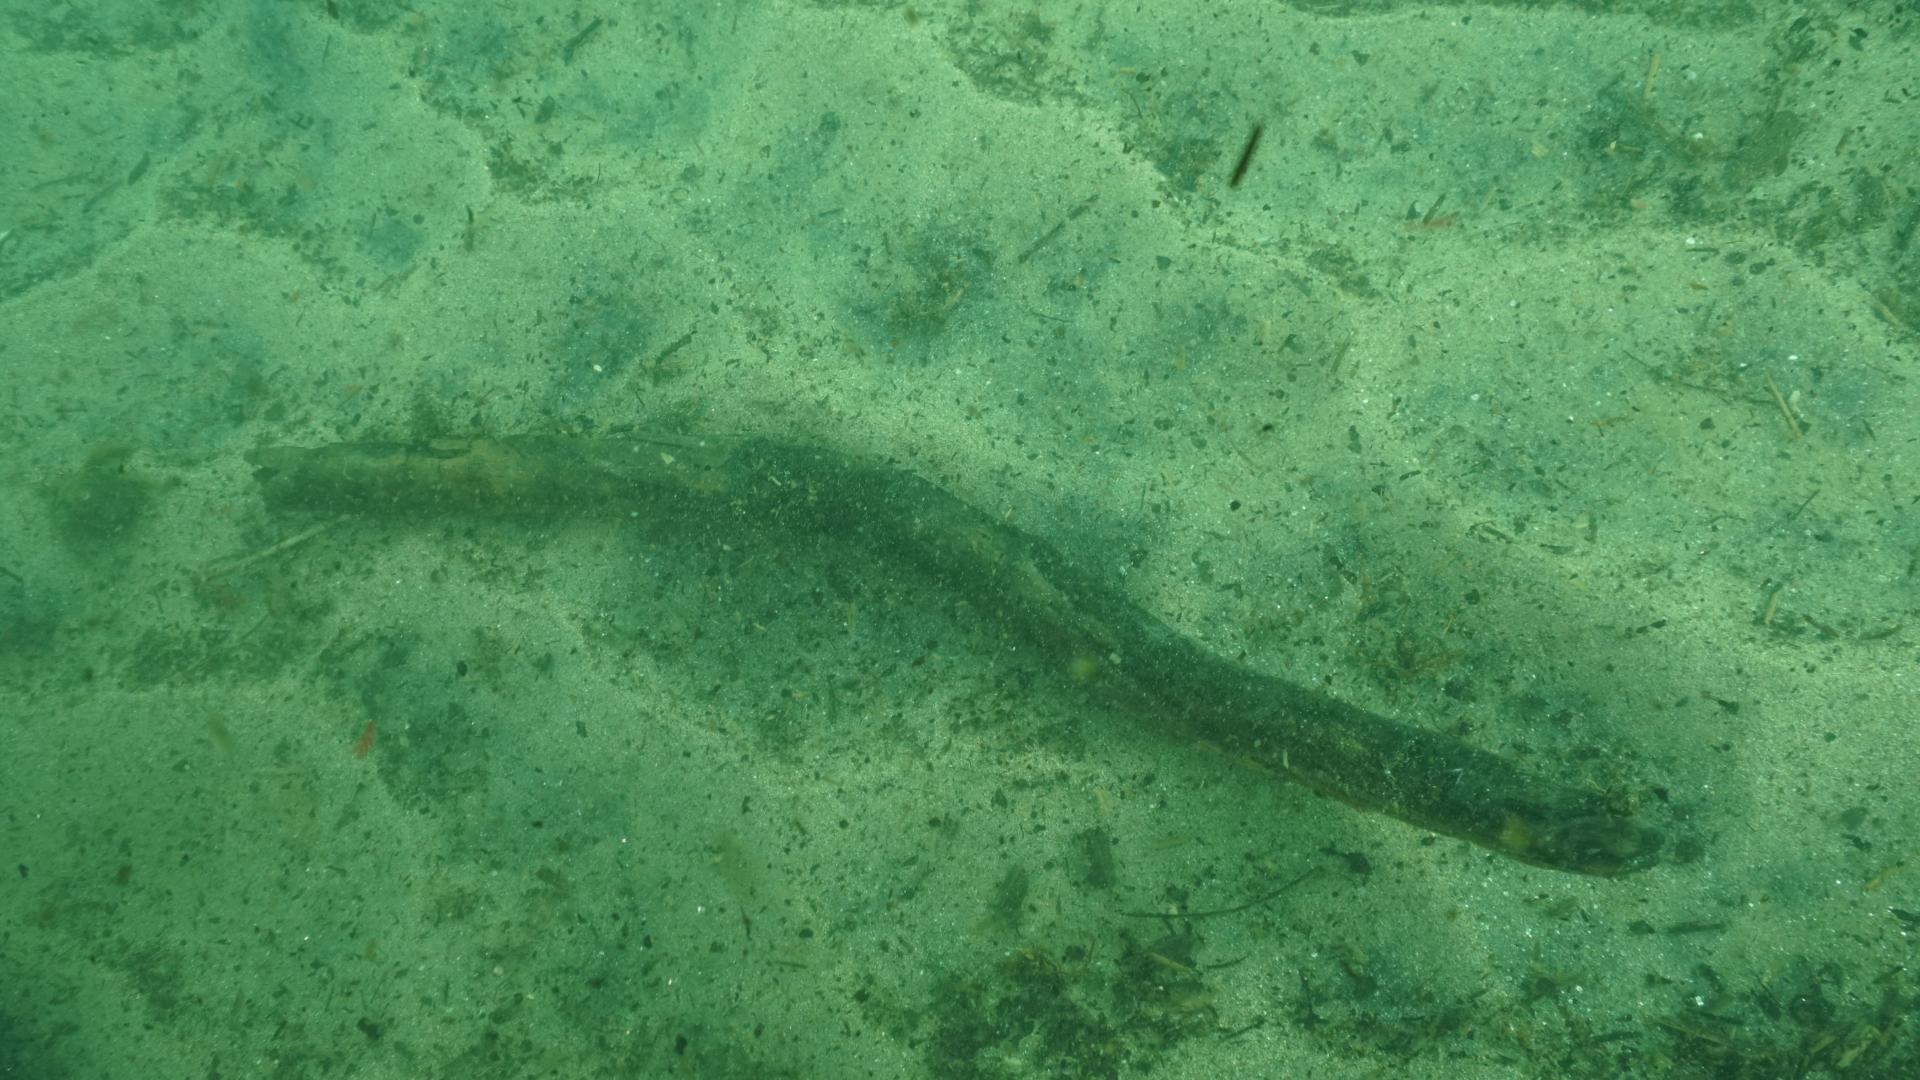wood: (240, 431, 1665, 877)
